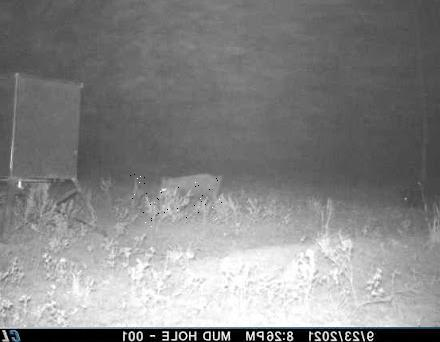Hog: (130, 174, 225, 227)
